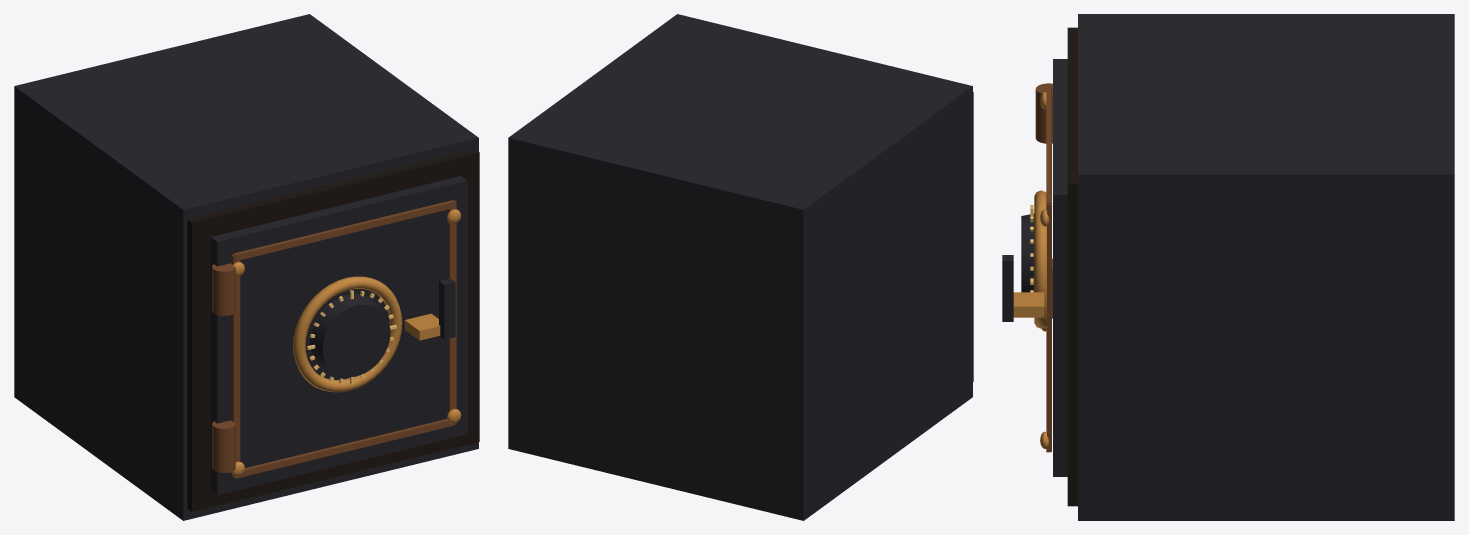
File: mia-safe.glb
3 renders of one model, left to right at view 1: azimuth 30°, elevation 25°; view 2: azimuth 150°, elevation 25°; view 3: azimuth 270°, elevation 25°, orthographic. The views are drawn at different scales.
Parts seen in each view (by area): view 1: Body_iron, Body_black, Body_rust, Body_brass, Body_trim; view 2: Body_iron; view 3: Body_iron, Body_black, Body_rust, Body_brass.
Part boxes in pixels (x1=…): Body_iron: x1=14, y1=14, x2=478, y2=520; Body_black: x1=187, y1=149, x2=479, y2=511; Body_rust: x1=212, y1=200, x2=456, y2=478; Body_brass: x1=231, y1=209, x2=461, y2=476; Body_trim: x1=306, y1=290, x2=396, y2=384; Body_iron: x1=508, y1=14, x2=972, y2=520; Body_iron: x1=1002, y1=14, x2=1454, y2=520; Body_black: x1=1067, y1=27, x2=1077, y2=506; Body_rust: x1=1035, y1=83, x2=1052, y2=452; Body_brass: x1=1013, y1=92, x2=1048, y2=448.
Size of the model in its own units: 0.697 by 0.701 by 0.83.
